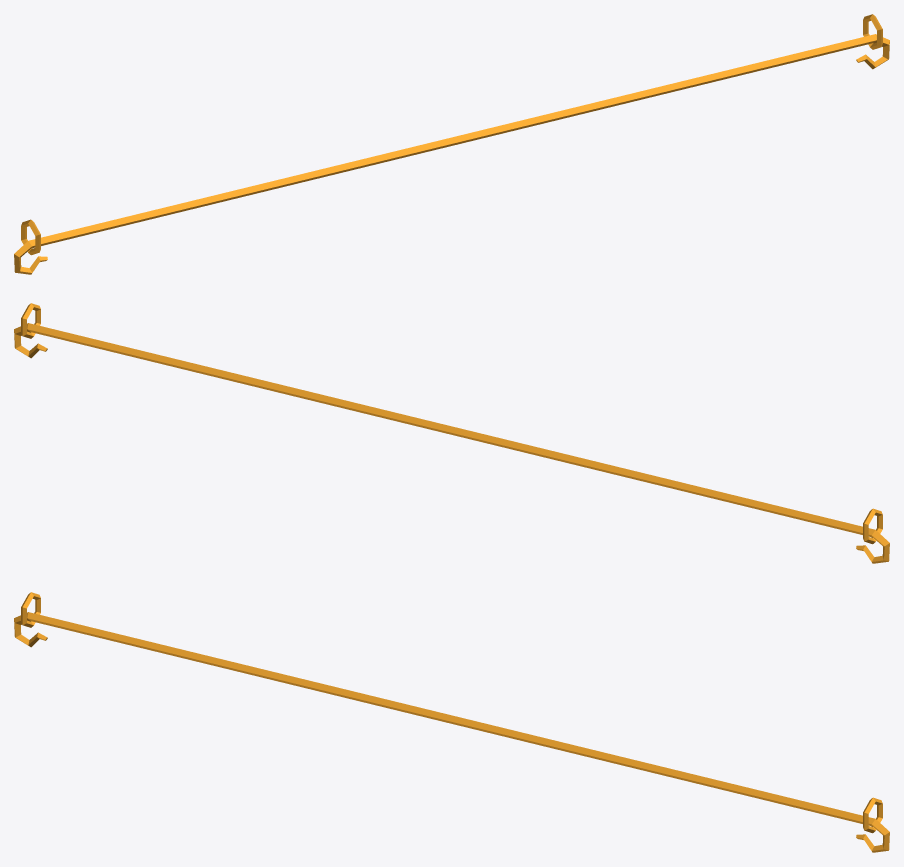
The model's file is SM_Kitchen_Rail_Fantasy.fbx.
3 renders of one model, top to bottom at view 1: azimuth 30°, elevation 25°; view 2: azimuth 150°, elevation 25°; view 3: azimuth 330°, elevation 25°, orthographic.
Visible parts, largest first — view 1: kitchen-rail-fantasy; view 2: kitchen-rail-fantasy; view 3: kitchen-rail-fantasy.
Part boxes in pixels (bbox=[...]): kitchen-rail-fantasy: bbox=[14, 14, 889, 274]; kitchen-rail-fantasy: bbox=[14, 303, 889, 563]; kitchen-rail-fantasy: bbox=[14, 592, 889, 852].
Bounding box in the file's own units: 2.18 × 0.1318 × 0.0739.
